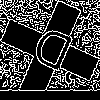D: (25, 25, 77, 81)
